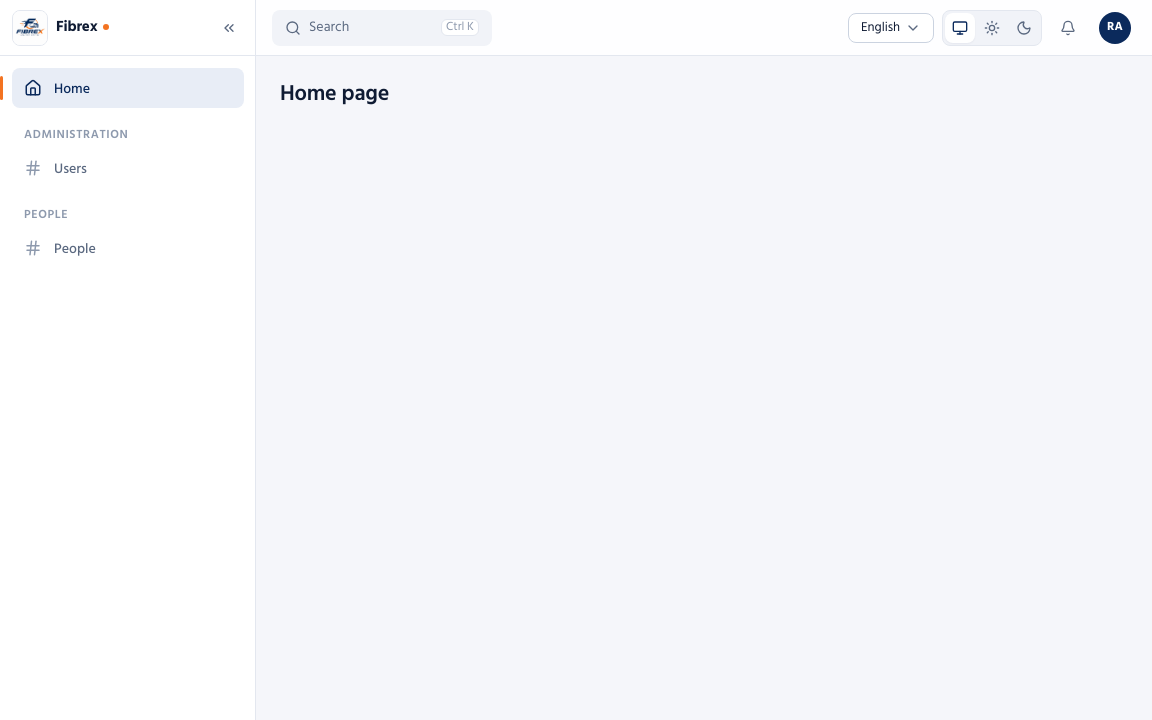
Test: responsive shell › on a desktop: the sidebar is shown and can be collapsed
Click the button named "Collapse menu": (229, 28) [214,12,244,42]
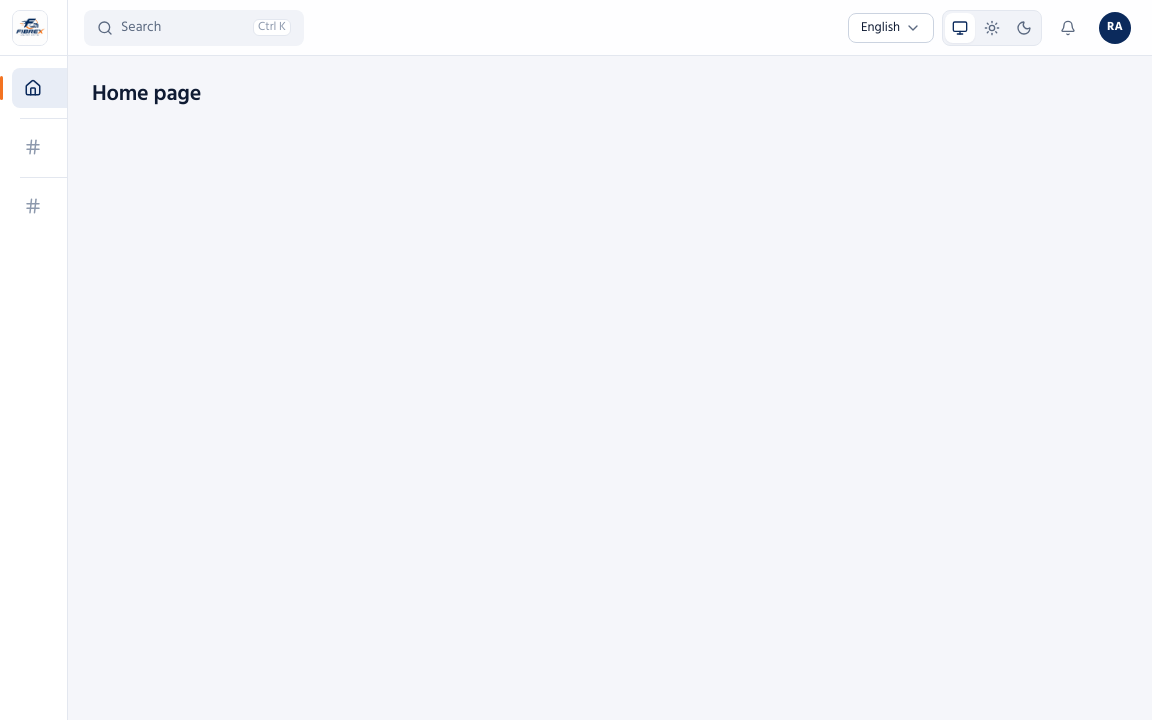
Expected: the navigation bar named "Menu" has attribute data-mode="collapsed", [0,0,68,719]
Expected: the link named "Users" has attribute title="Users", [24,138,42,156]
